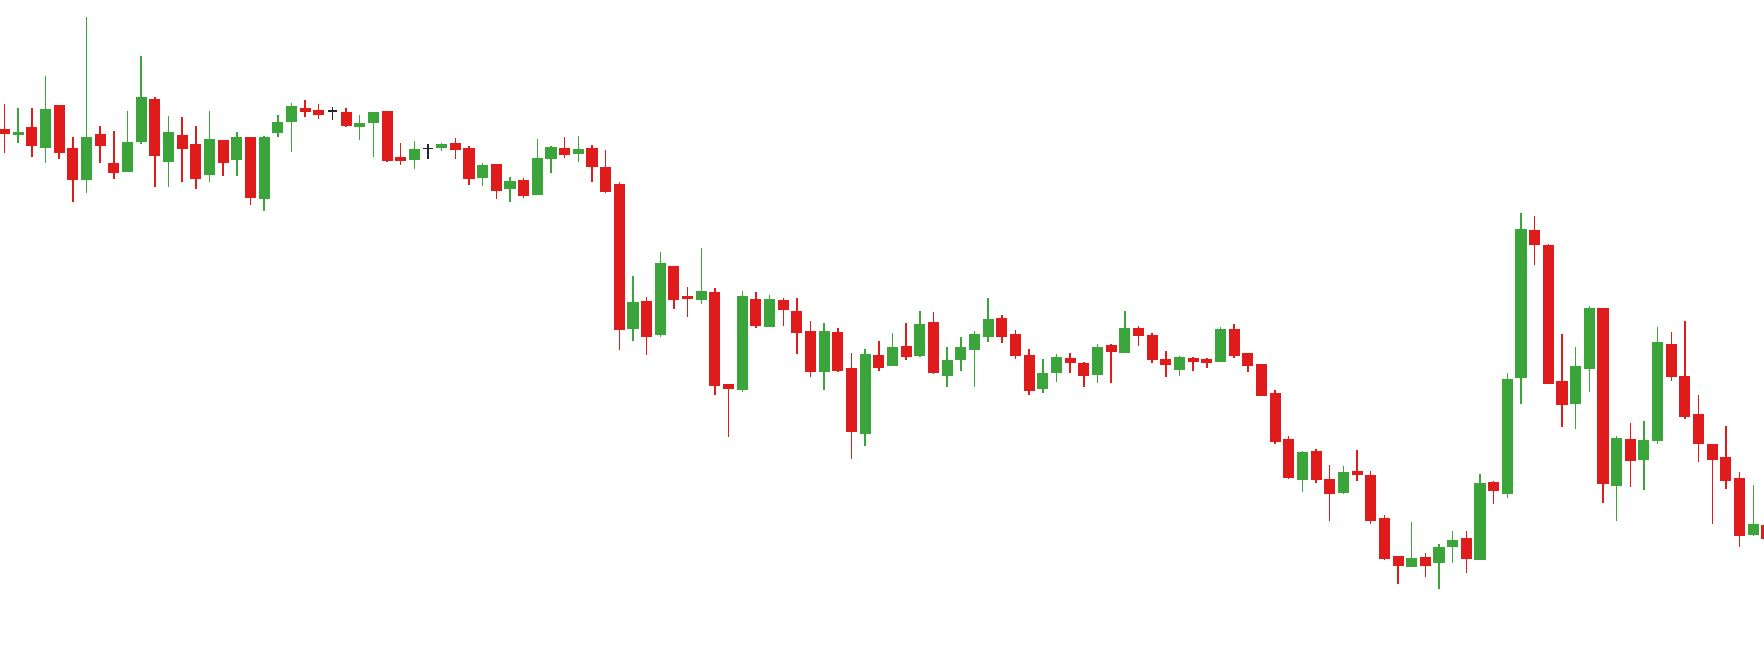sell: (1212, 215, 1556, 426), (908, 290, 1011, 370)
